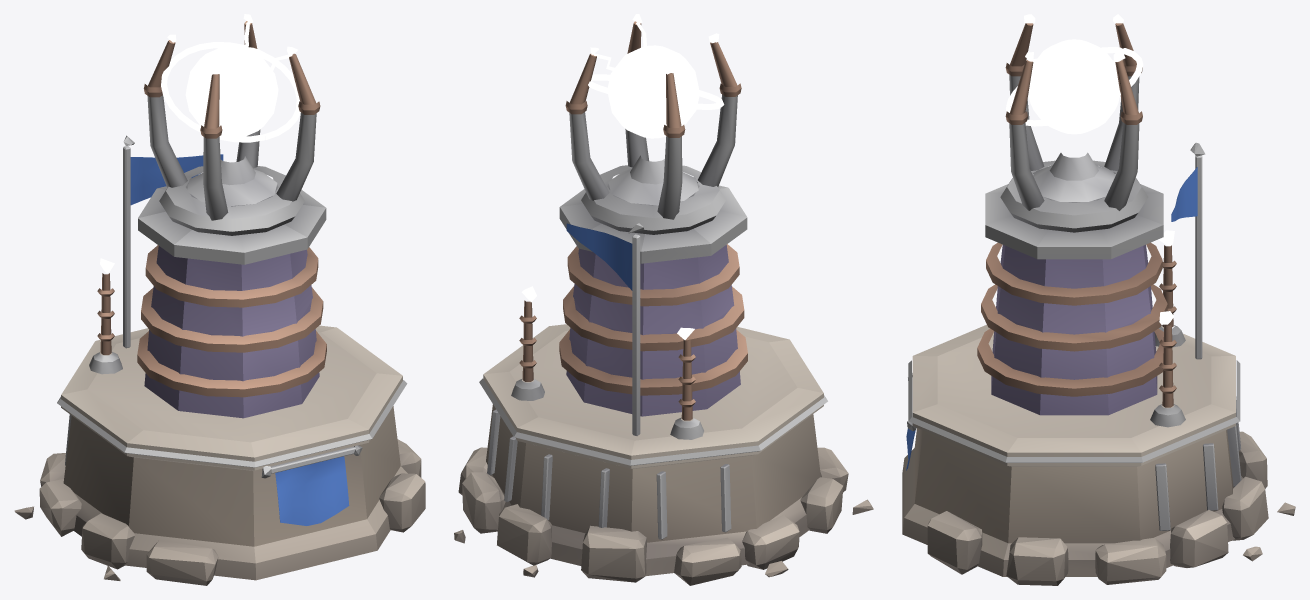
The model's file is spark_0_3.glb.
3 renders of one model, left to right at view 1: azimuth 30°, elevation 25°; view 2: azimuth 150°, elevation 25°; view 3: azimuth 270°, elevation 25°, orthographic.
Parts seen in each view (by area): view 1: Tower, Turret; view 2: Tower, Turret; view 3: Tower, Turret.
Boxes of the visible parts, x1=… form: Tower: x1=14, y1=135, x2=425, y2=585; Turret: x1=143, y1=14, x2=320, y2=235; Tower: x1=454, y1=178, x2=873, y2=585; Turret: x1=565, y1=14, x2=741, y2=234; Tower: x1=902, y1=142, x2=1295, y2=585; Turret: x1=1000, y1=14, x2=1148, y2=232.
Size of the model in its own units: 3.56 by 4.7 by 3.51.
